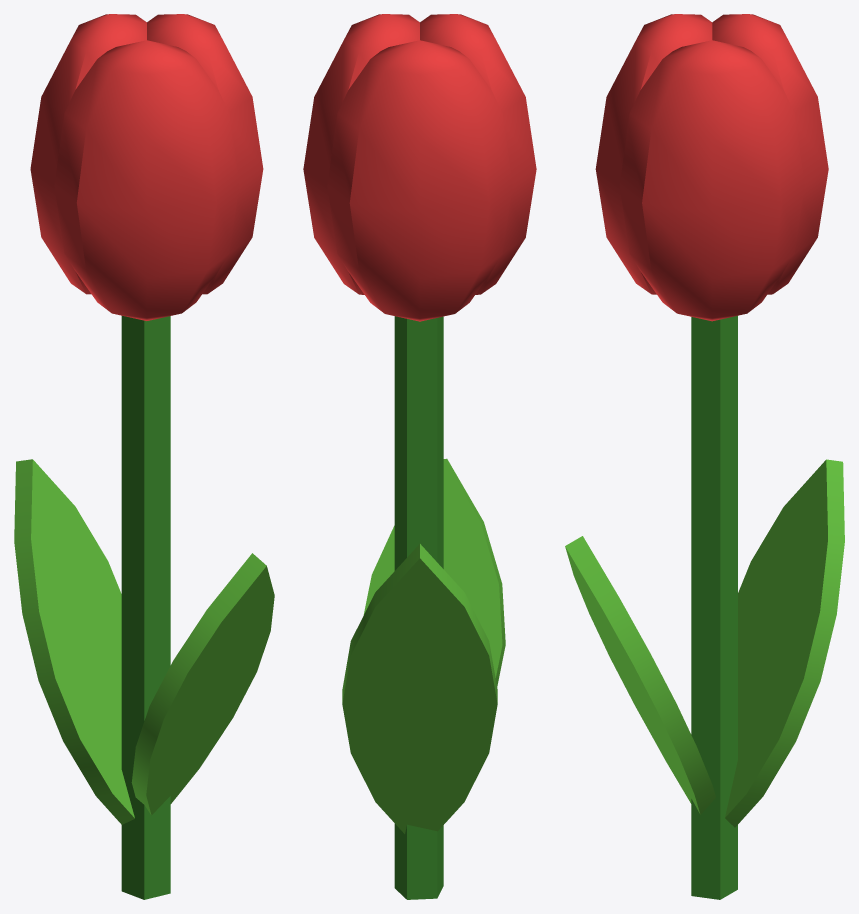
The model's file is Tulip.fbx.
3 renders of one model, left to right at view 1: azimuth 30°, elevation 25°; view 2: azimuth 150°, elevation 25°; view 3: azimuth 270°, elevation 25°, orthographic.
Visible parts, largest first — view 1: Tulip; view 2: Tulip; view 3: Tulip.
Boxes of the visible parts, x1,y1,x2,y2 form: Tulip: [14, 14, 274, 899]; Tulip: [303, 14, 536, 899]; Tulip: [565, 14, 844, 899].
Size of the model in its own units: 0.4404 by 1.85 by 0.5415.
1 material, 1 textured.
